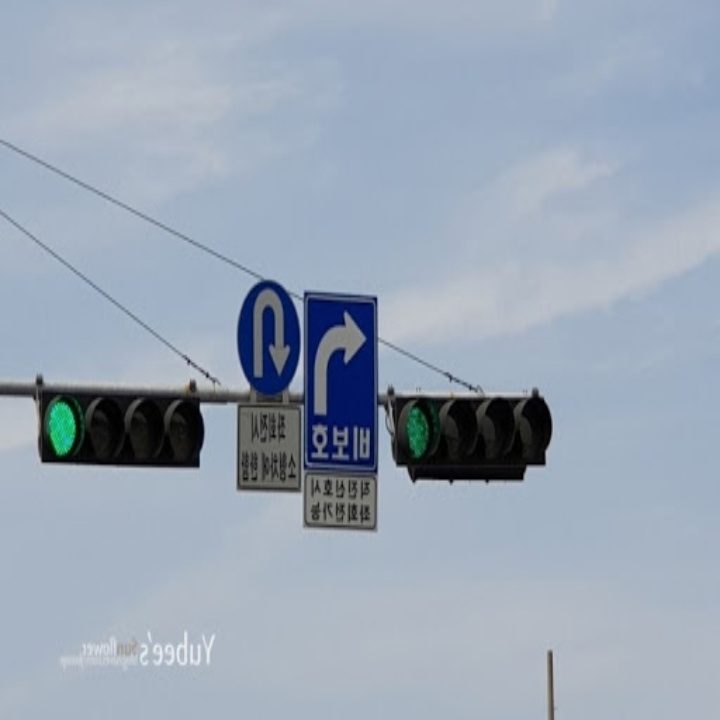right: (311, 306, 369, 422)
